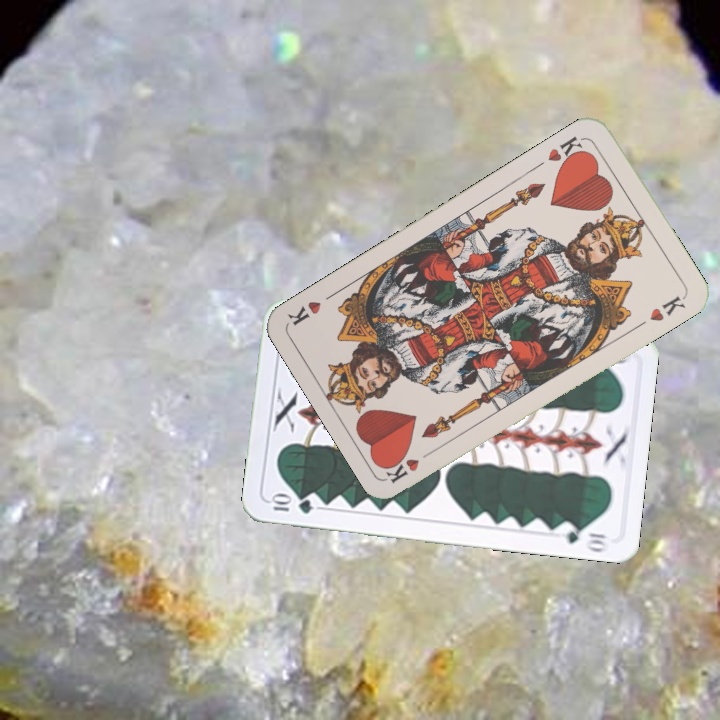G10: (266, 491, 315, 516)
HK: (382, 445, 439, 486), (543, 132, 589, 170)
